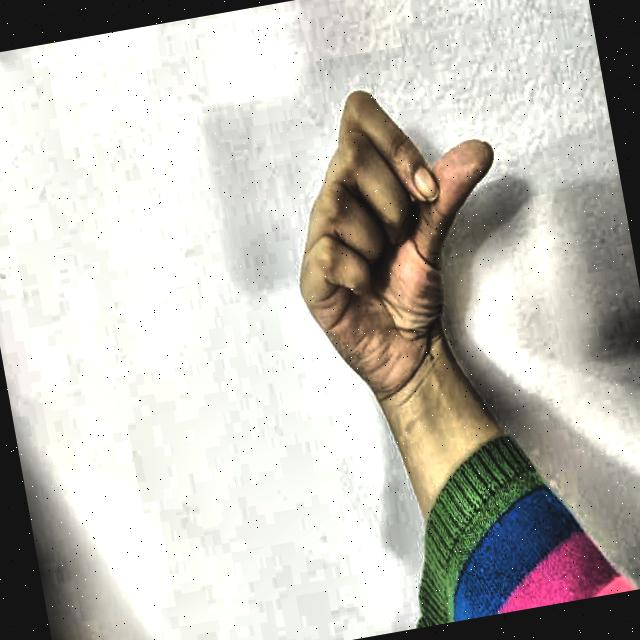Ay: (234, 32, 548, 432)
